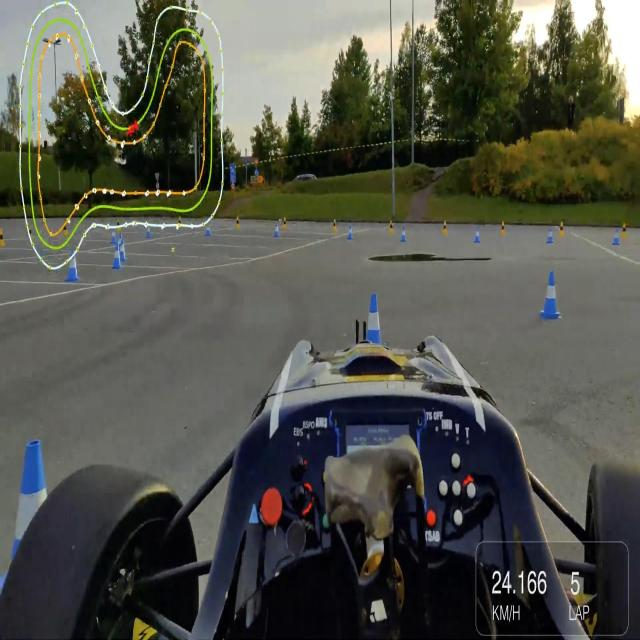blue_cone: (2, 437, 62, 597), (357, 293, 388, 368), (536, 268, 560, 322), (65, 247, 79, 283), (111, 242, 121, 270), (119, 238, 127, 264), (117, 230, 125, 254), (473, 224, 482, 244), (613, 227, 621, 246), (546, 227, 554, 244), (110, 226, 117, 245), (401, 226, 408, 244), (348, 223, 354, 241), (205, 222, 212, 236), (273, 222, 279, 238), (146, 222, 152, 238)
yellow_cone: (558, 220, 566, 238), (330, 218, 338, 235), (62, 219, 69, 238), (0, 226, 6, 248), (233, 214, 240, 232), (499, 220, 506, 238), (442, 218, 448, 236), (282, 216, 288, 233), (116, 217, 122, 233), (388, 220, 394, 236), (622, 222, 628, 238), (178, 215, 182, 230)
